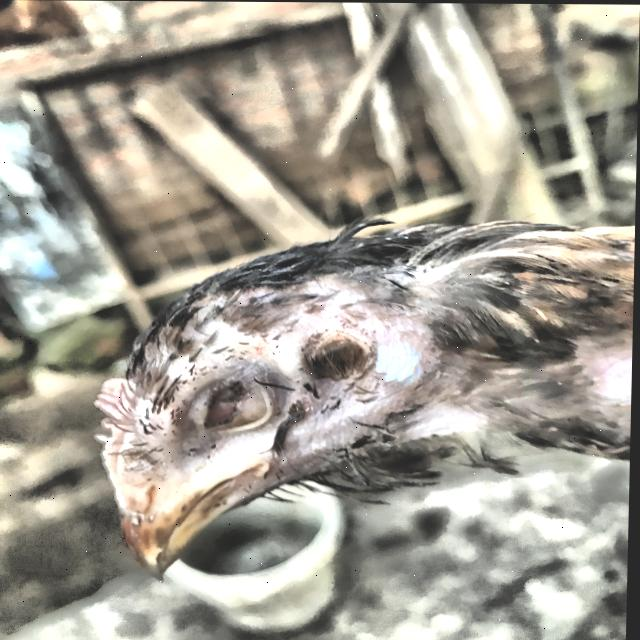Coryza: (18, 215, 631, 608)
